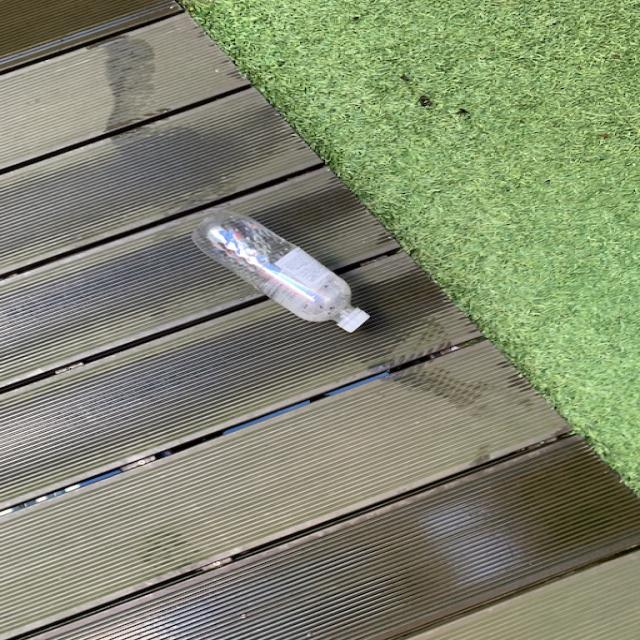Waste: (192, 210, 370, 332)
